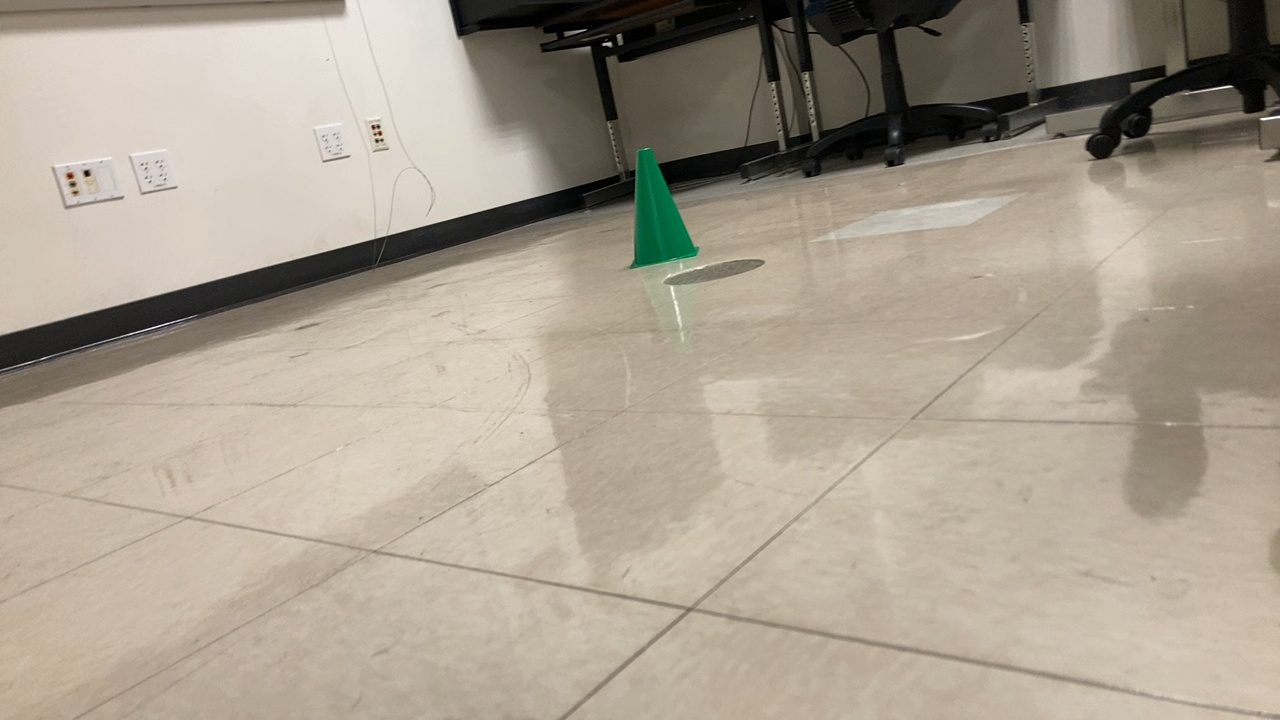green_cone: (622, 143, 702, 271)
